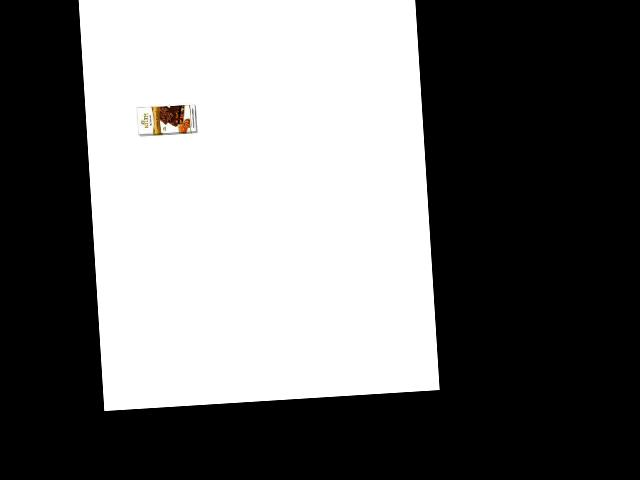chocolate: (134, 103, 199, 138)
